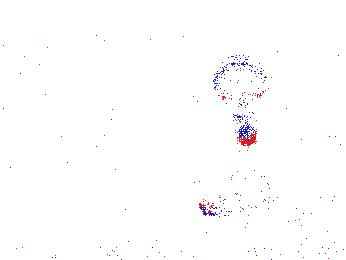flame jellyfish: (211, 54, 269, 144), (198, 167, 275, 224), (278, 173, 346, 232)
